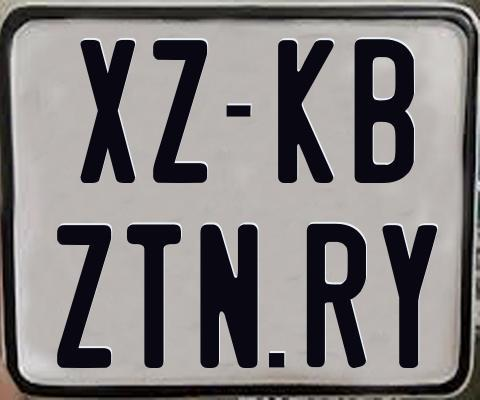B: (352, 36, 418, 183)
K: (278, 40, 336, 186)
N: (197, 223, 258, 372)
R: (304, 223, 363, 367)
T: (126, 224, 185, 370)
X: (80, 38, 135, 182)
Y: (382, 222, 442, 367)
Z: (151, 37, 208, 183), (56, 223, 110, 367)
